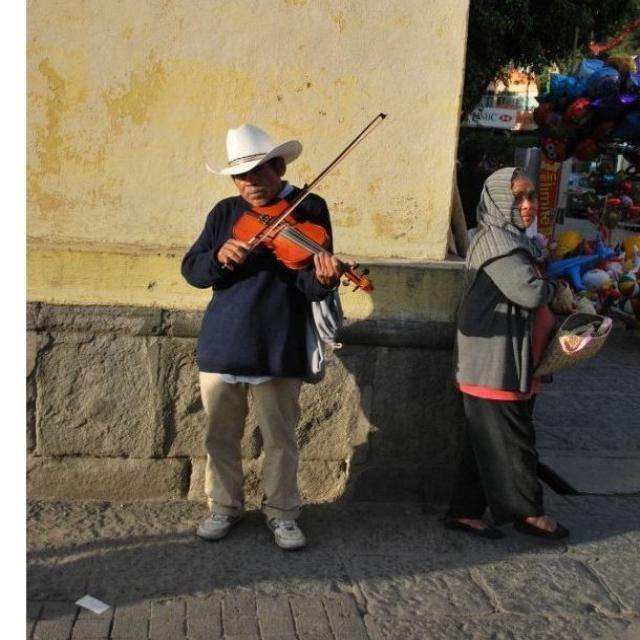violin: (232, 195, 378, 296)
